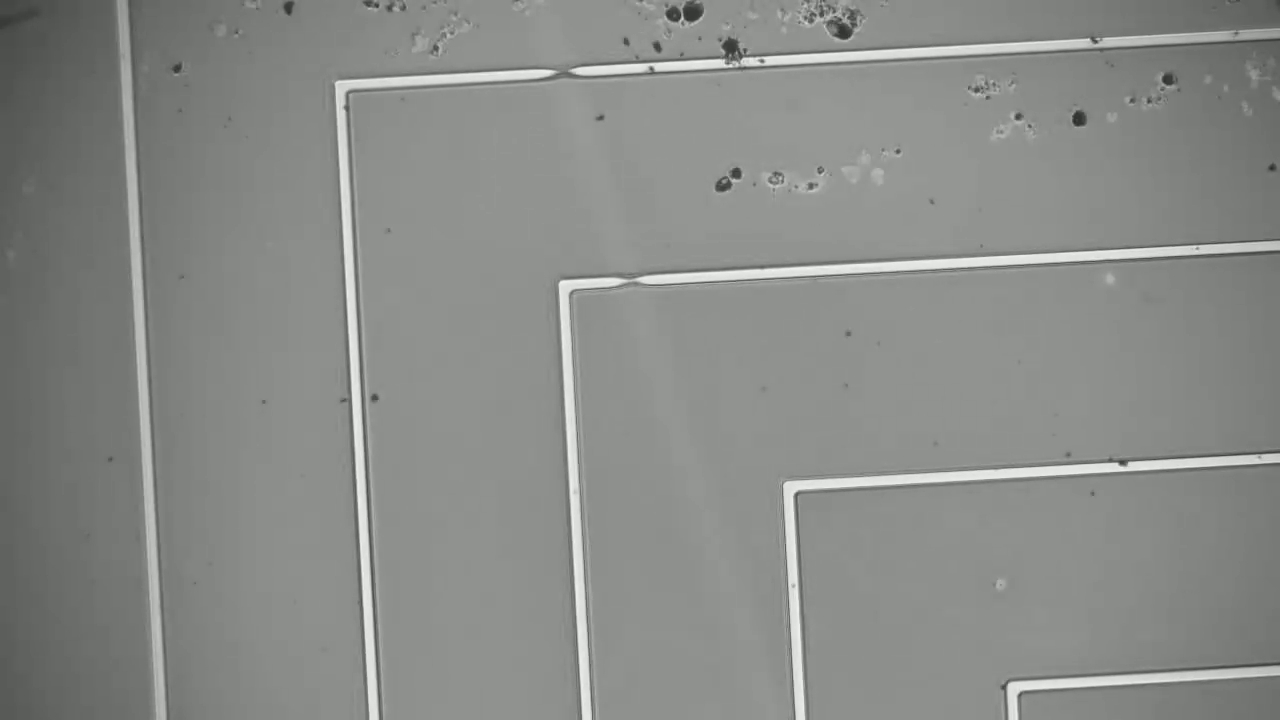edge_bite: (541, 53, 589, 92), (604, 264, 657, 292)
stains_enbedded: (1111, 451, 1139, 481)
